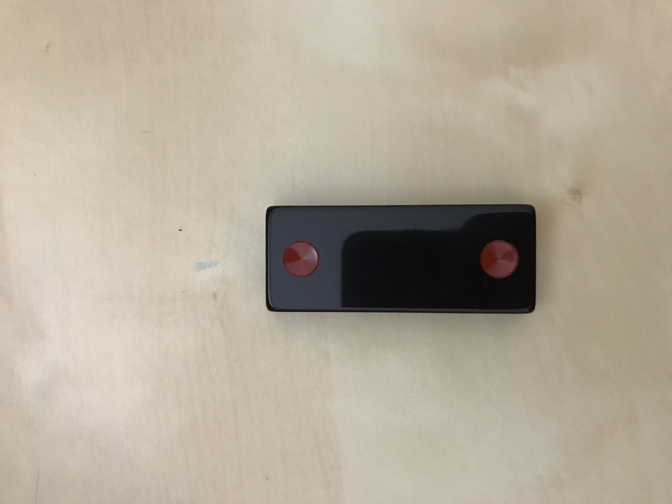earth: (264, 204, 536, 315)
